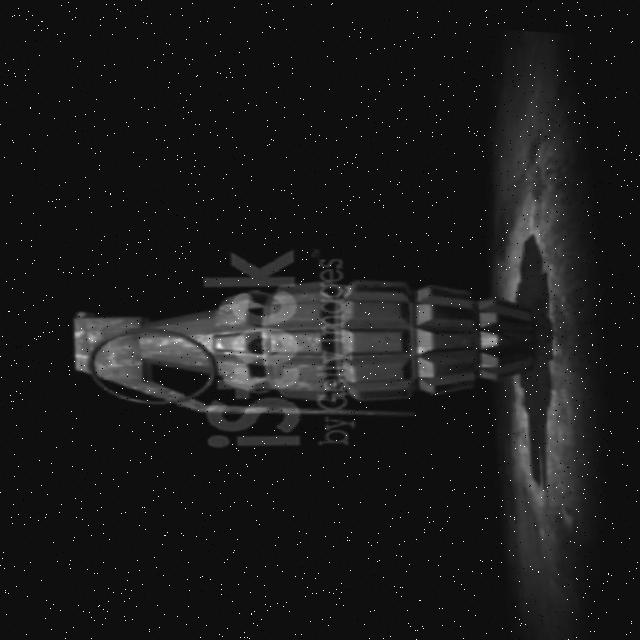grenade: (58, 233, 553, 457)
